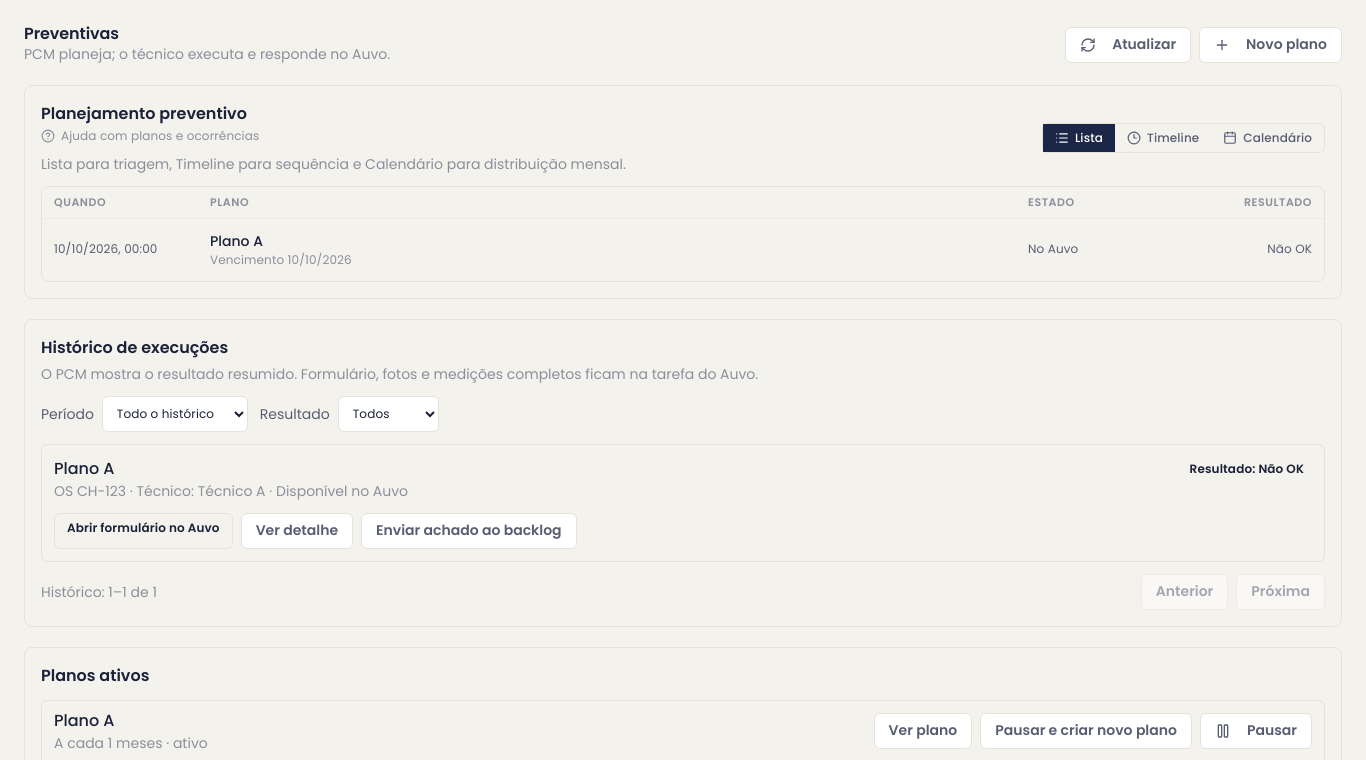
PreventivasWorkspace — E01-S53 / E01-S163 AC-10 e AC-15 › AC-13 e AC-14: pausa o plano materializado e inicia um novo ciclo sem reutilizar a ocorrência
The image size is (1366, 760).
Click the button "Pausar e criar novo plano": [1086, 731] box [980,713,1192,749]
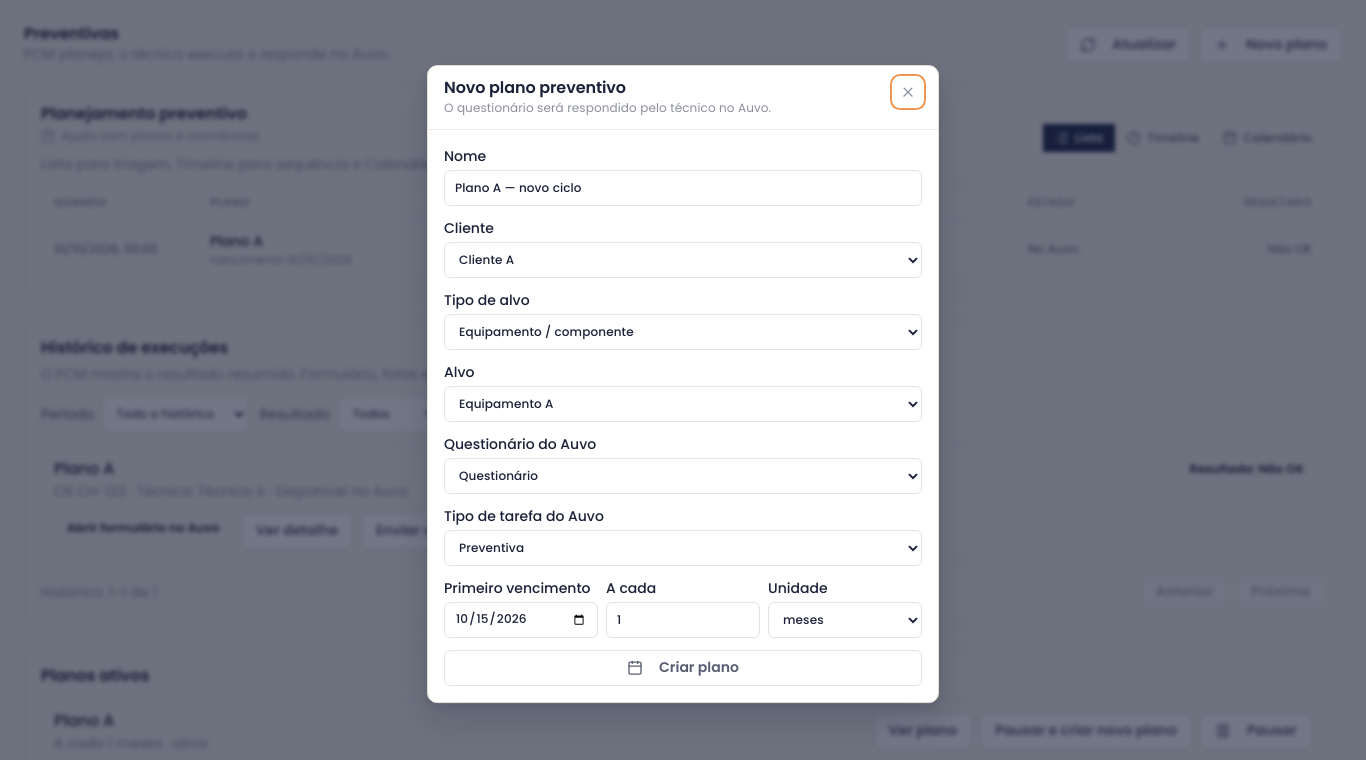
Check: the heading "Novo plano preventivo" is shown, box [444,76,626,99]
Check: the field showing "Plano A — novo ciclo" is shown, box [444,170,922,206]
